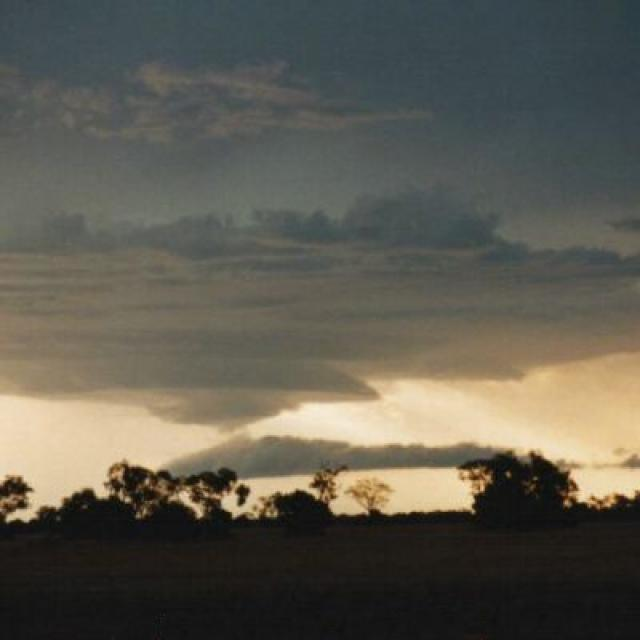St: (1, 197, 640, 442)
